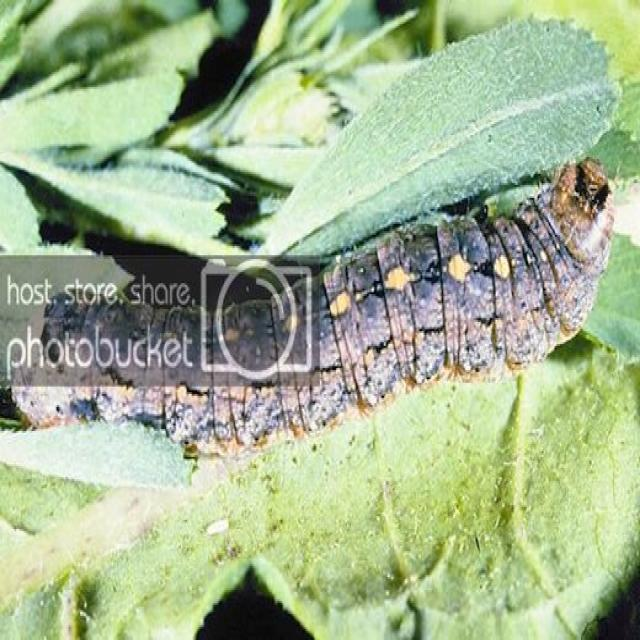Cutworm: (25, 163, 615, 421)
